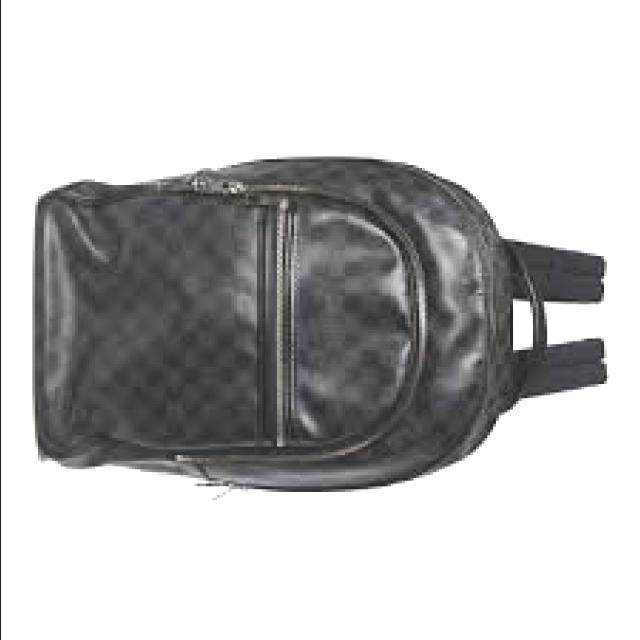backpack: (35, 155, 613, 497)
